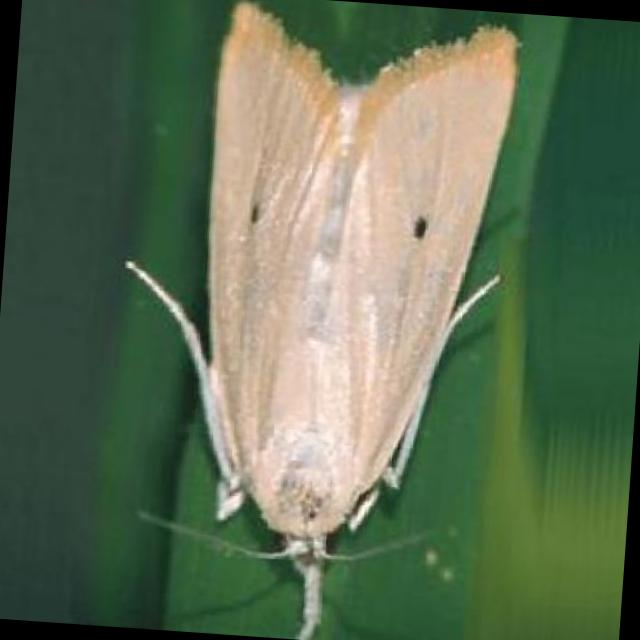stem-borer: (94, 0, 526, 640)
